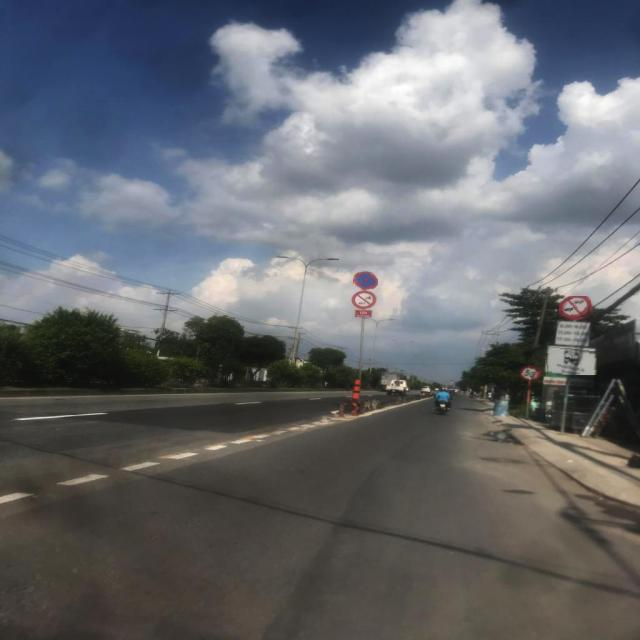cam_dung_xe_va_do_xe: (353, 272, 378, 290)
cam_o_to_tai_va_xe_khach: (559, 296, 592, 320)
cam_xe_2_banh_va_xe_3_banh_co_dong_co: (352, 291, 376, 309)
khac: (545, 346, 597, 375), (555, 321, 590, 347)
toc_do_toi_da_50: (520, 366, 541, 380)
